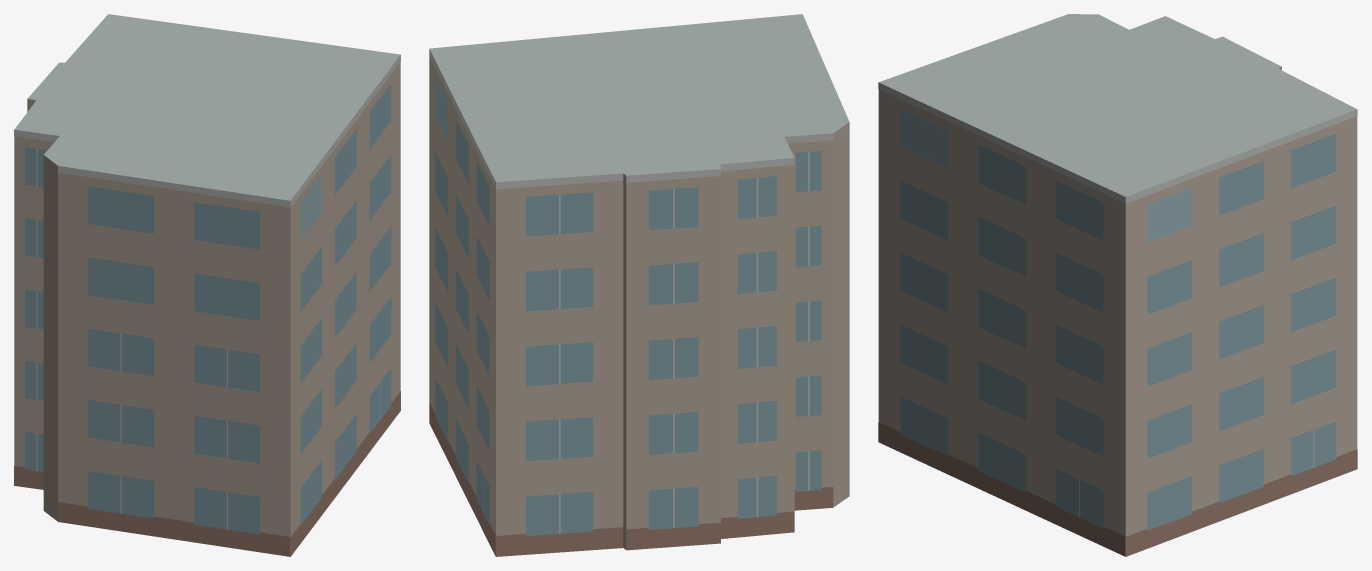
File: survey-upis-32889579.glb
3 renders of one model, left to right at view 1: azimuth 30°, elevation 25°; view 2: azimuth 150°, elevation 25°; view 3: azimuth 270°, elevation 25°, orthographic. The views are drawn at different scales.
Parts seen in each view (by area): view 1: survey-upis-32889579.tmp; view 2: survey-upis-32889579.tmp; view 3: survey-upis-32889579.tmp.
Boxes of the visible parts, x1,y1,x2,y2 form: survey-upis-32889579.tmp: (14,14,400,556); survey-upis-32889579.tmp: (429,14,849,556); survey-upis-32889579.tmp: (878,14,1357,556).
Bounding box in the file's own units: 14.19 × 13 × 15.69.
